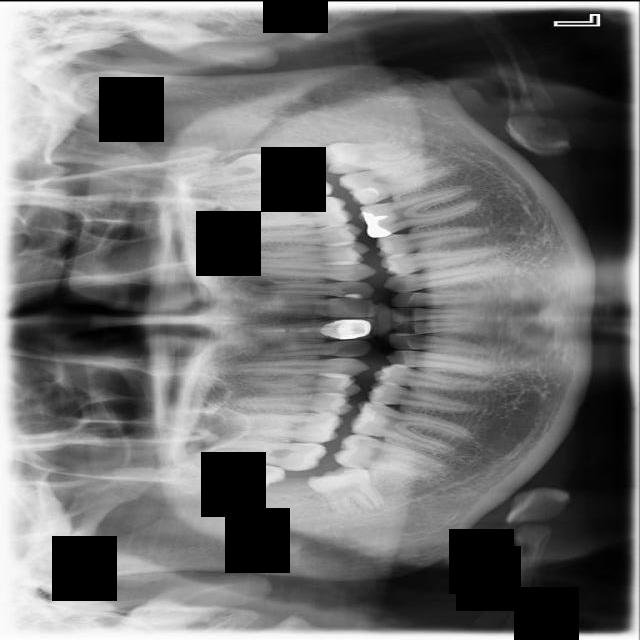3M ESPE Implant: (183, 452, 287, 493)
52: (336, 158, 393, 214), (355, 190, 410, 243), (347, 396, 399, 440), (317, 316, 379, 341), (329, 281, 375, 298)
73: (249, 319, 337, 342), (558, 18, 570, 26)
BioHorizons Implant: (211, 164, 335, 212)
BioLife Implant: (182, 147, 290, 191)
Biomet 3i Implant: (323, 132, 421, 175)
Blue Sky Bio Implant: (336, 151, 460, 210)
Caries: (197, 436, 328, 472)
Implant: (331, 430, 445, 480)
Keystone Dental Implant: (305, 457, 383, 528)
